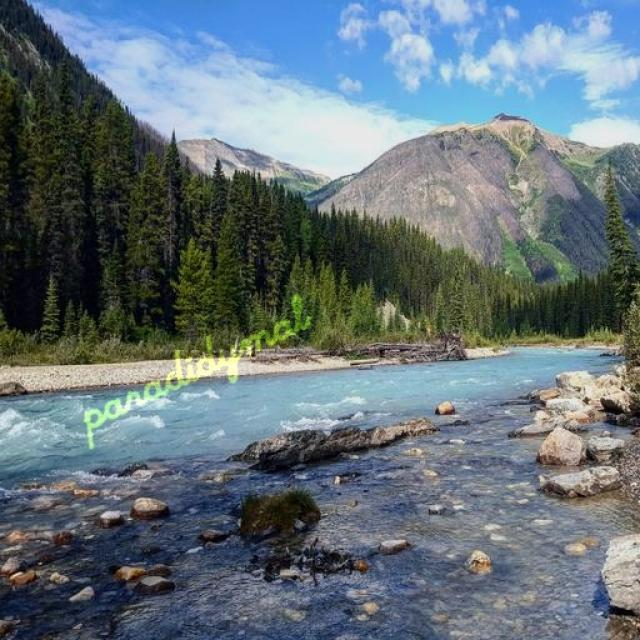watermark: (78, 289, 313, 436)
